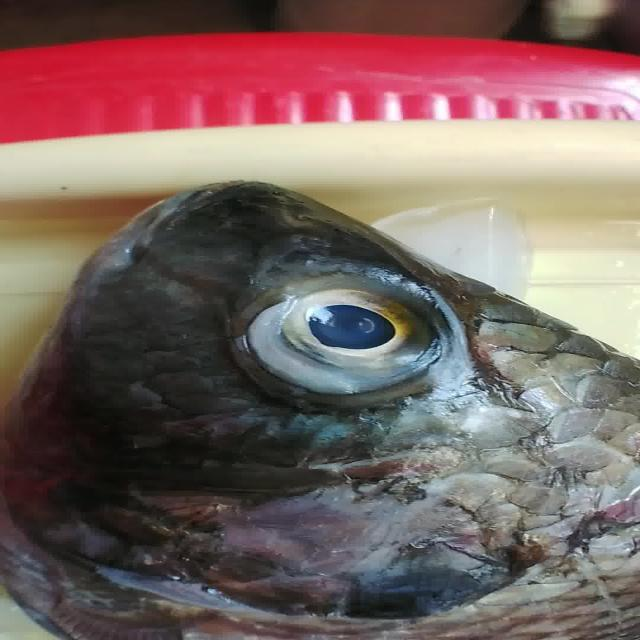Fresh: (213, 249, 472, 409)
